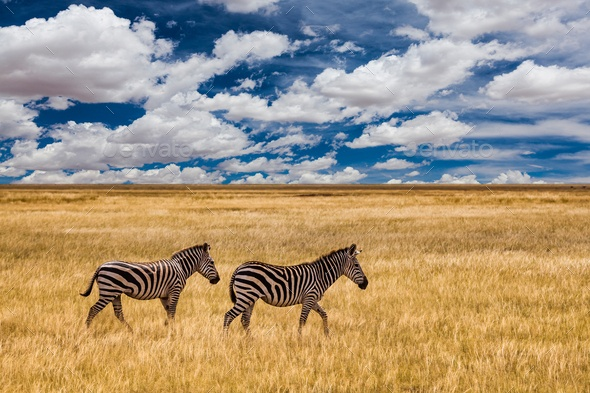zebra: (224, 243, 370, 334), (79, 239, 220, 329)
